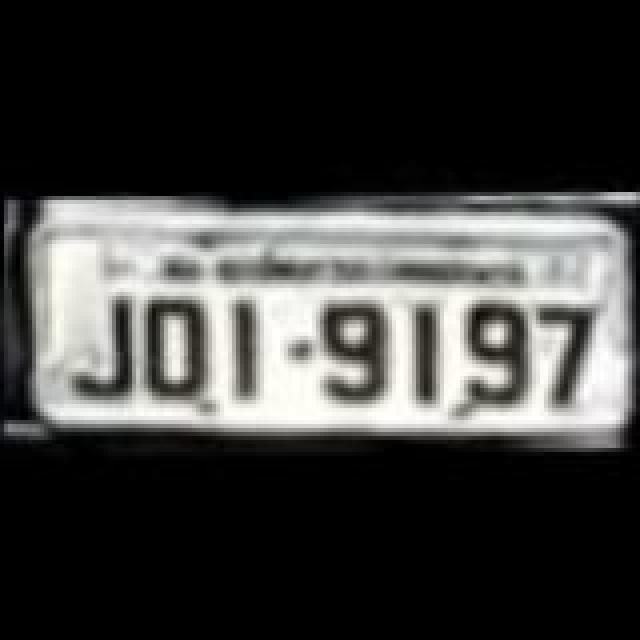1: (218, 292, 274, 412), (400, 294, 448, 406)
7: (530, 298, 606, 414)
9: (310, 290, 394, 406), (462, 294, 538, 410)
J: (62, 282, 138, 406)
O: (136, 290, 212, 406)
